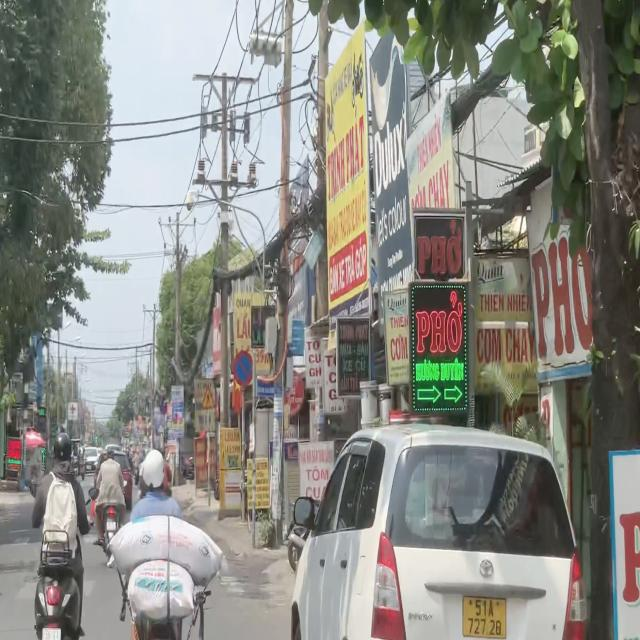Cam do: (233, 350, 254, 386)
Nguoi di bo cat ngang: (202, 384, 215, 410)
